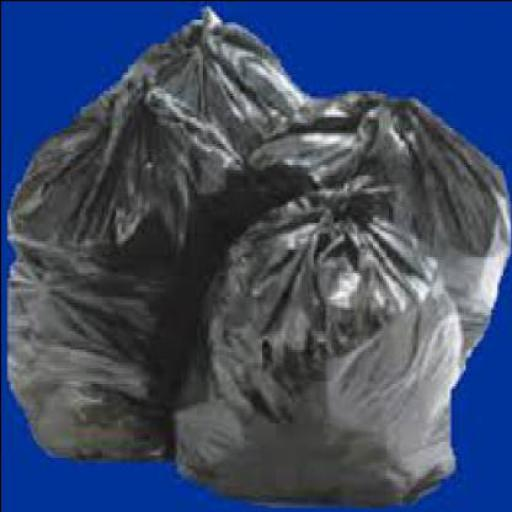plastic: (175, 174, 461, 509), (8, 60, 248, 457), (229, 86, 511, 389), (80, 6, 314, 227)
